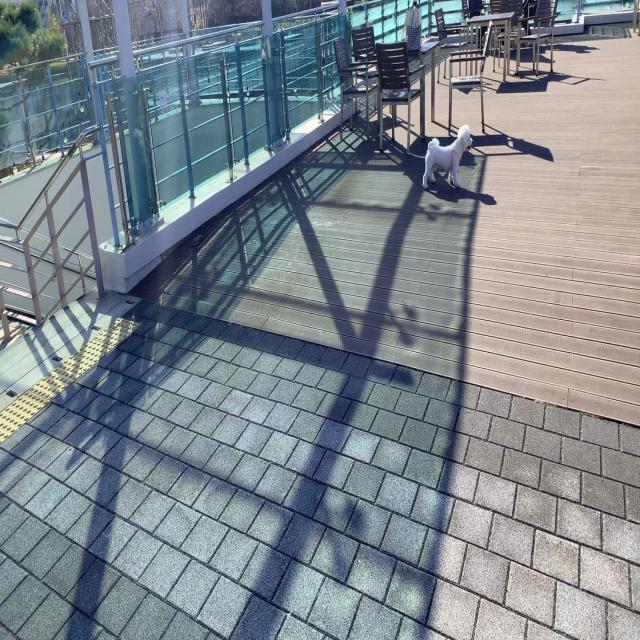Dog: (422, 125, 473, 191)
